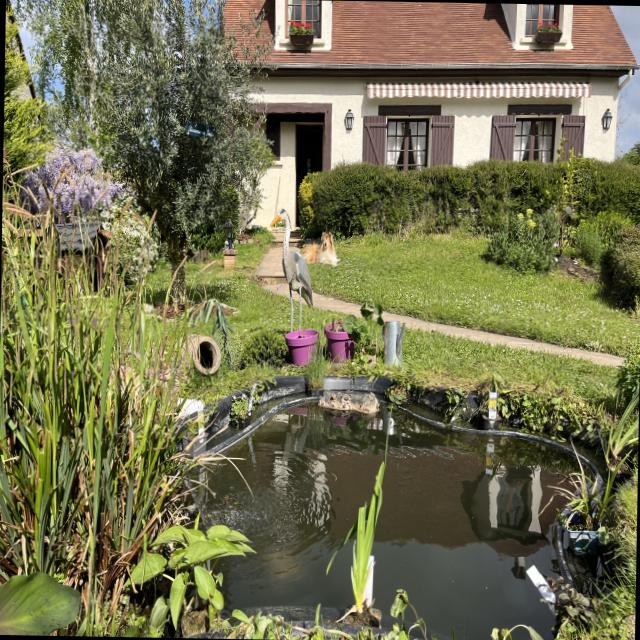Dog: (294, 224, 343, 274)
Heron: (265, 198, 321, 354)
